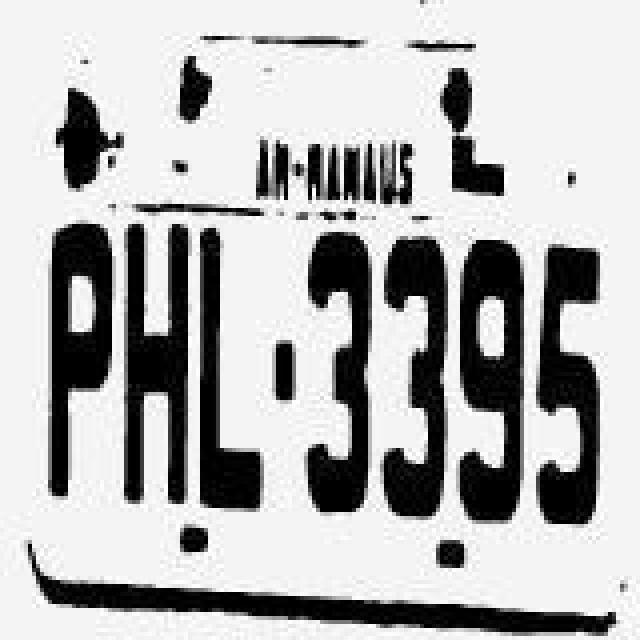3: (300, 226, 380, 518), (382, 234, 458, 518)
5: (538, 242, 614, 534)
9: (458, 236, 534, 524)
H: (116, 222, 196, 506)
L: (190, 230, 274, 514)
P: (38, 220, 114, 500)
